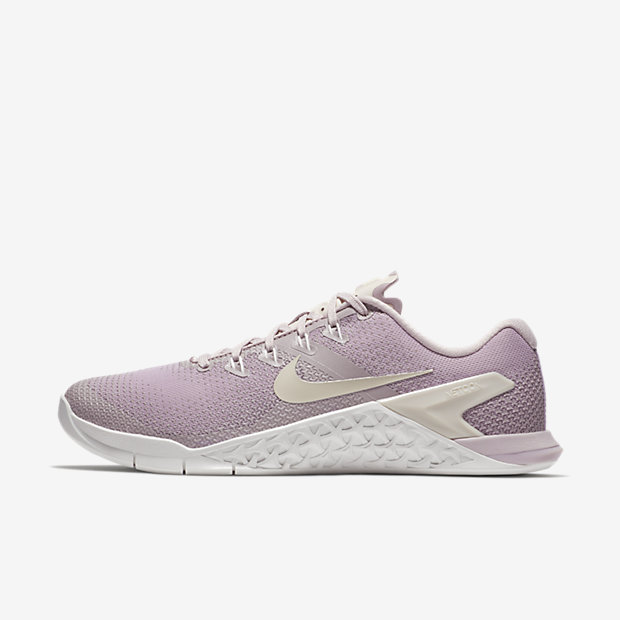nike: (274, 355, 437, 406)
